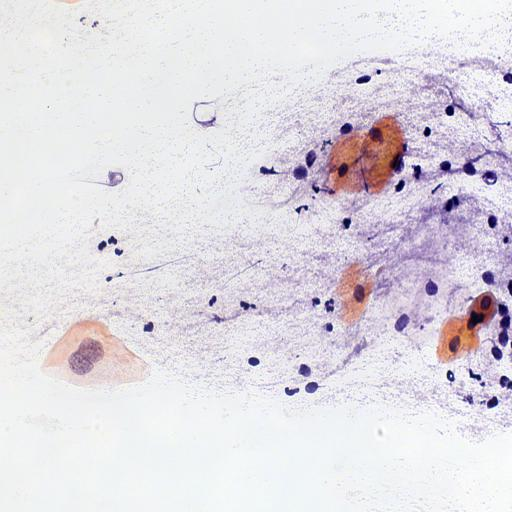Abnormal_Nucleus: (68, 350, 95, 378), (79, 338, 105, 365)
Normal_Nucleus: (369, 127, 386, 147), (352, 283, 366, 305), (449, 334, 463, 356), (480, 295, 492, 312), (338, 162, 350, 178)
